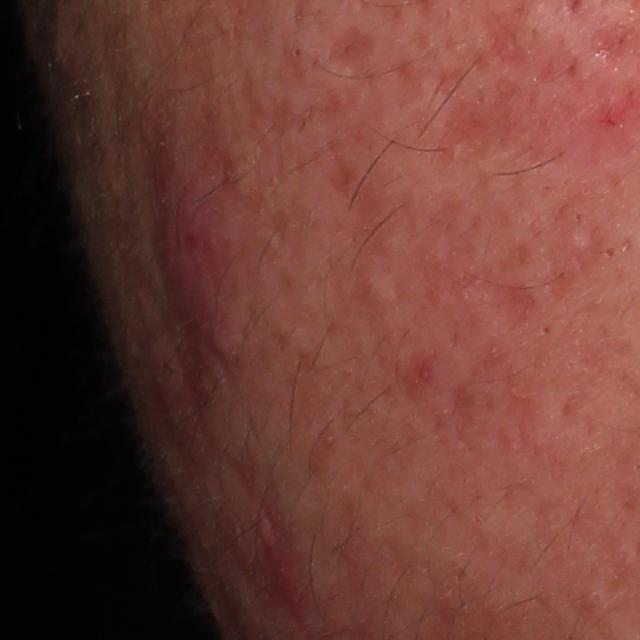atrophic_scar: (320, 23, 376, 68)
comedo: (532, 319, 563, 344)
nodule: (140, 99, 272, 398)
